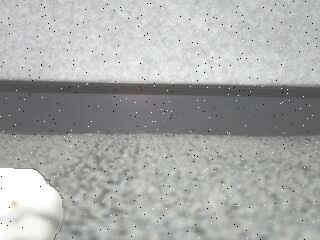Garlic: (0, 168, 64, 240)
